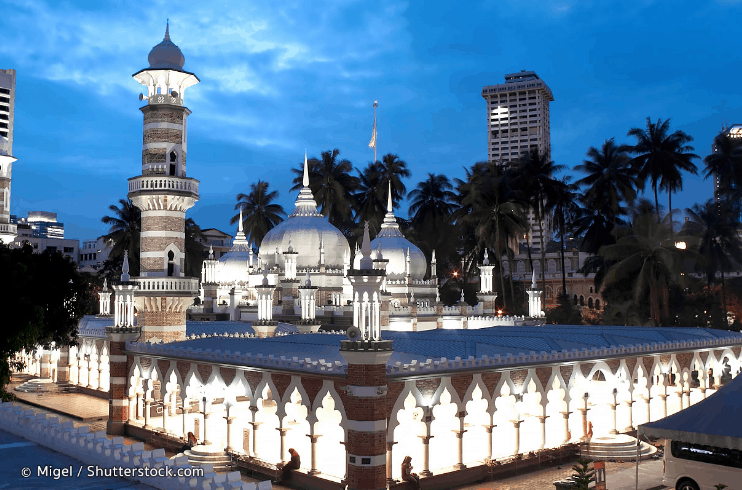Mosque: (62, 18, 553, 449)
